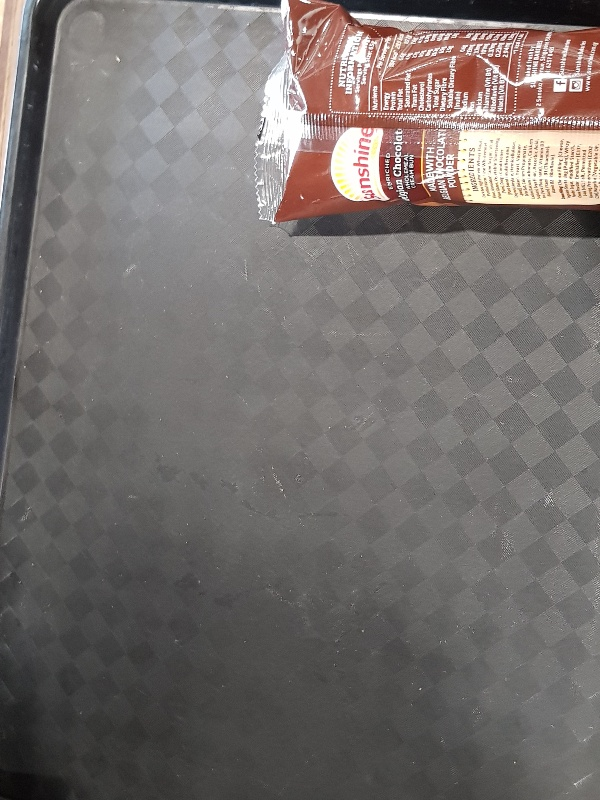Sunshine Belgium Chocolate Wholemeal Cream Bun: (257, 1, 600, 224)
